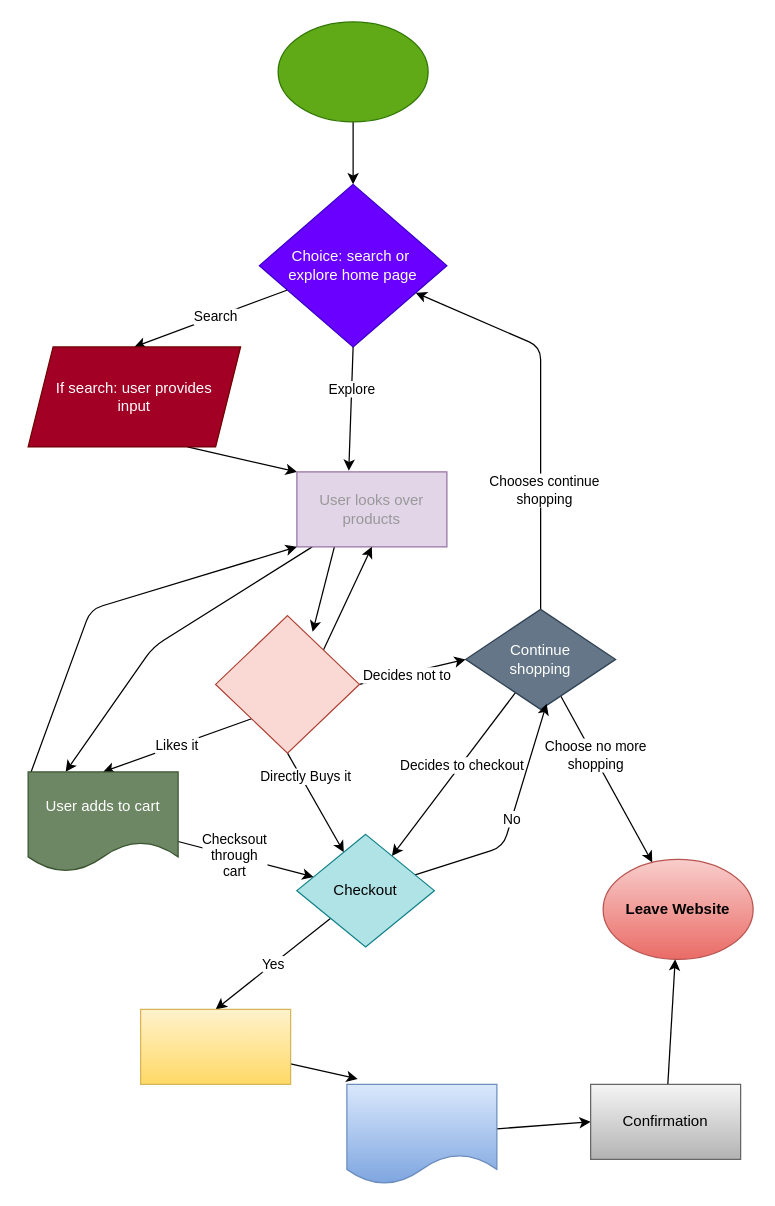
Image size: 775x1206. Some labels were removed from this diagram. The box of each missing label's shape, as (x1, y1, x2, y2) in pixels:
Document payment info: (346, 1083, 497, 1184)
Prompted to pay: (139, 1008, 291, 1084)
User enters website: (277, 21, 428, 122)
User looks at specific product: (214, 614, 359, 753)
